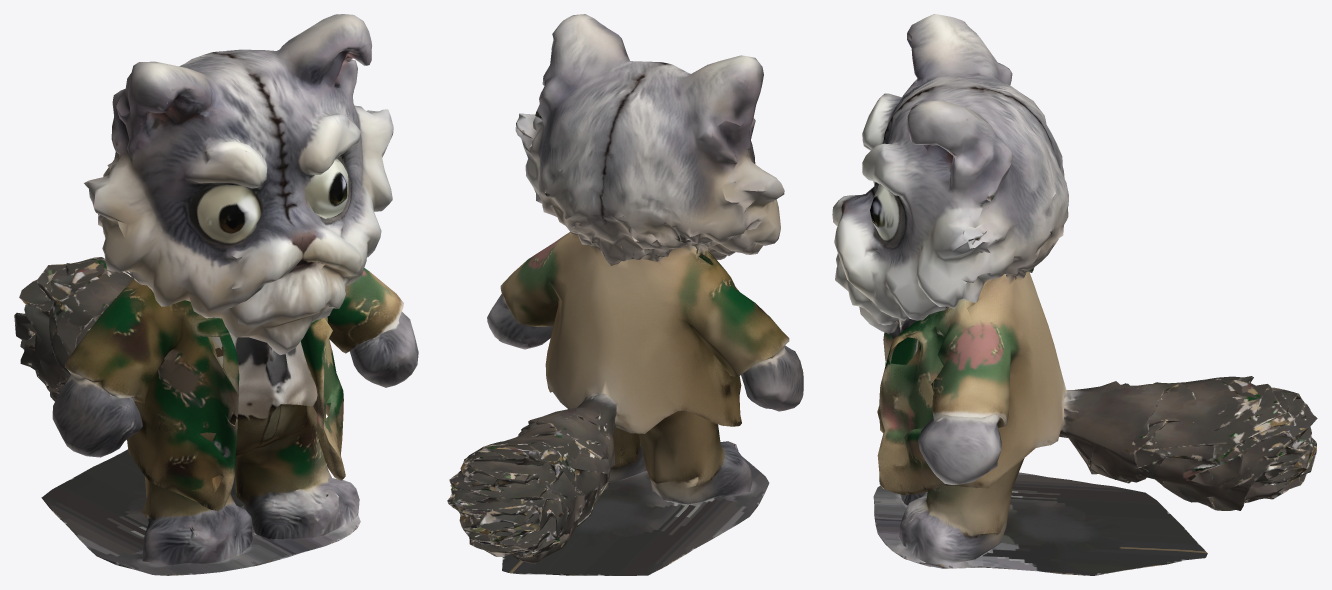
The model's file is grantel_plush.glb.
The picture shows the model from 3 angles, left to right: view 1: azimuth 30°, elevation 25°; view 2: azimuth 150°, elevation 25°; view 3: azimuth 270°, elevation 25°; orthographic projection. The views are drawn at different scales.
Visible parts, largest first — view 1: world; view 2: world; view 3: world.
Boxes of the visible parts, x1,y1,x2,y2 form: world: [14, 14, 418, 575]; world: [447, 14, 803, 575]; world: [832, 14, 1317, 575].
Size of the model in its own units: 0.6929 by 0.9872 by 0.8983.
1 material, 1 textured.
